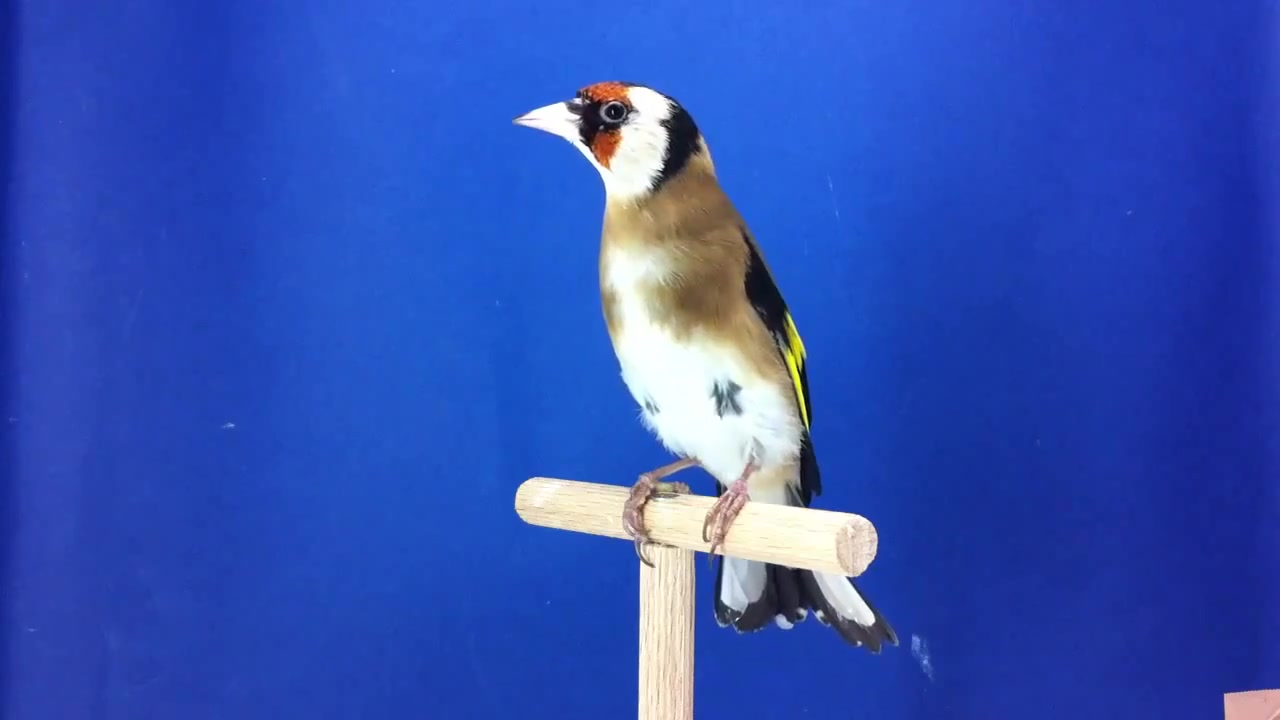bird: (511, 80, 901, 658)
